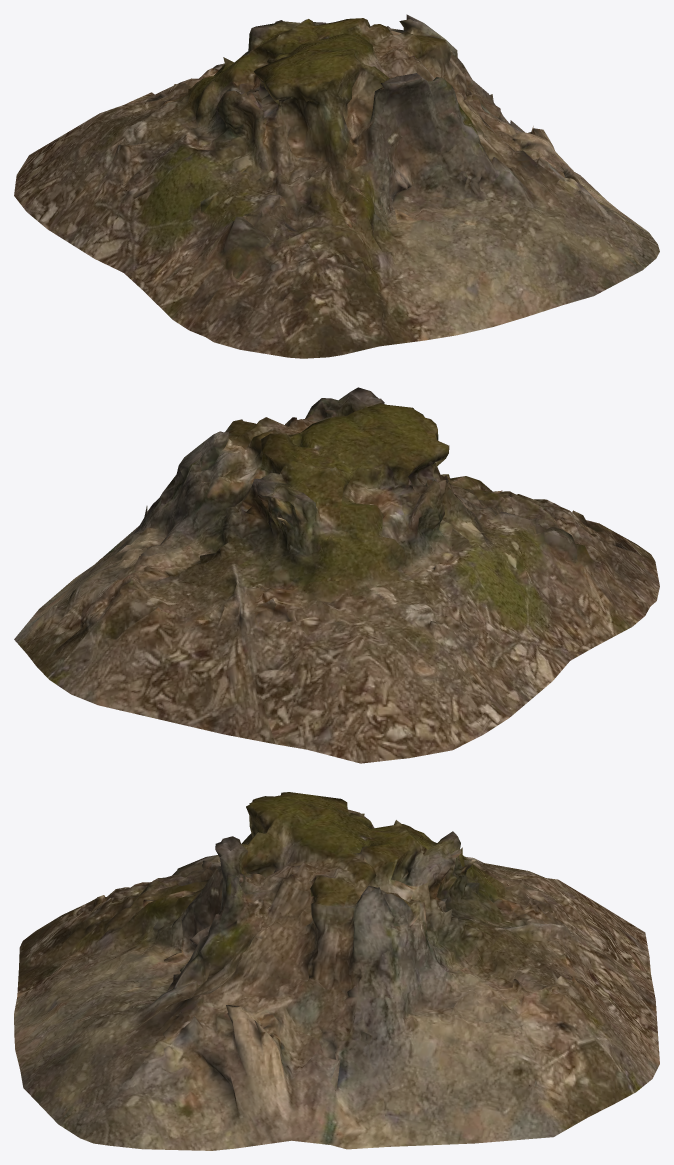
The model's file is tree_stump_01.gltf.
3 views of the same model, one above another, from view 1: azimuth 30°, elevation 25°; view 2: azimuth 150°, elevation 25°; view 3: azimuth 270°, elevation 25° (orthographic). The views are drawn at different scales.
Visible parts, largest first — view 1: tree_stump_01; view 2: tree_stump_01; view 3: tree_stump_01.
Boxes of the visible parts, x1,y1,x2,y2 form: tree_stump_01: (14,14,659,358); tree_stump_01: (14,387,659,763); tree_stump_01: (14,792,659,1150).
Size of the model in its own units: 1.43 by 0.5709 by 1.59.
Materials: 1 (1 with a texture image).
